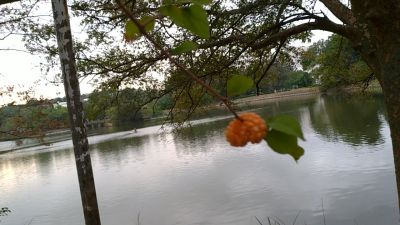eggs: (224, 111, 269, 148)
